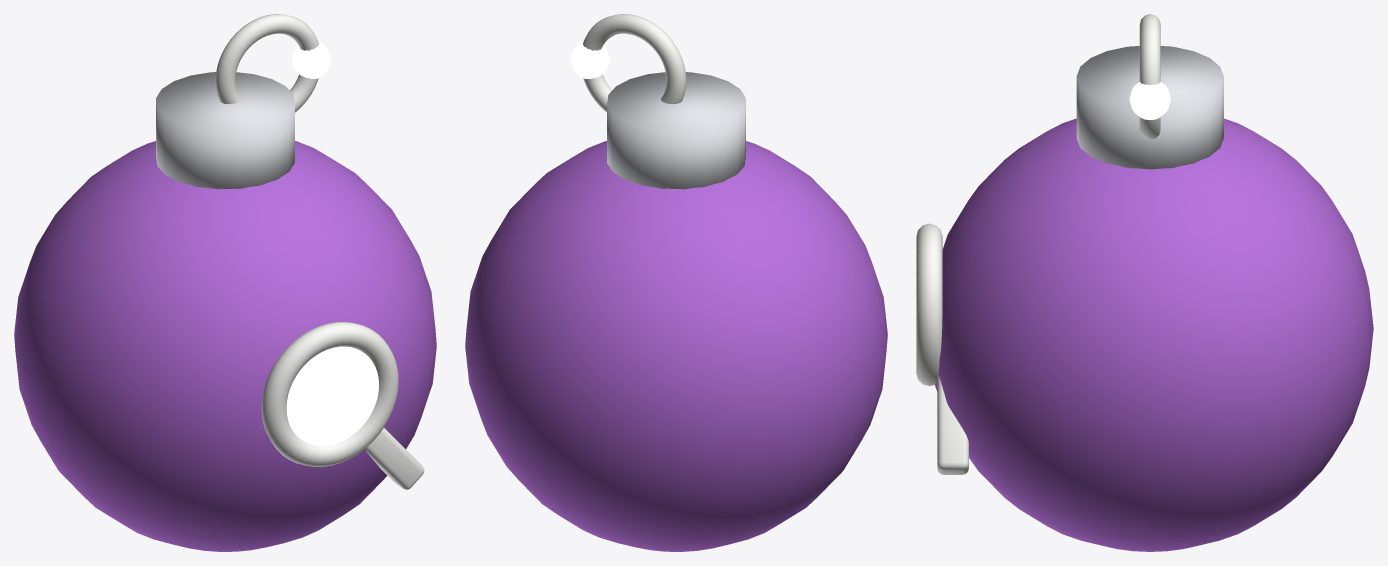
File: ITEM_SearchBomb.fbx
The picture shows the model from 3 angles, left to right: view 1: azimuth 30°, elevation 25°; view 2: azimuth 150°, elevation 25°; view 3: azimuth 270°, elevation 25°; orthographic projection. The views are drawn at different scales.
Parts seen in each view (by area): view 1: ITEM_SearchBomb; view 2: ITEM_SearchBomb; view 3: ITEM_SearchBomb.
Part boxes in pixels (box(x1,y1,x2,y2)): ITEM_SearchBomb: box(14, 14, 436, 551); ITEM_SearchBomb: box(465, 14, 887, 551); ITEM_SearchBomb: box(916, 14, 1373, 551).
Size of the model in its own units: 17 by 22.4 by 17.4.
